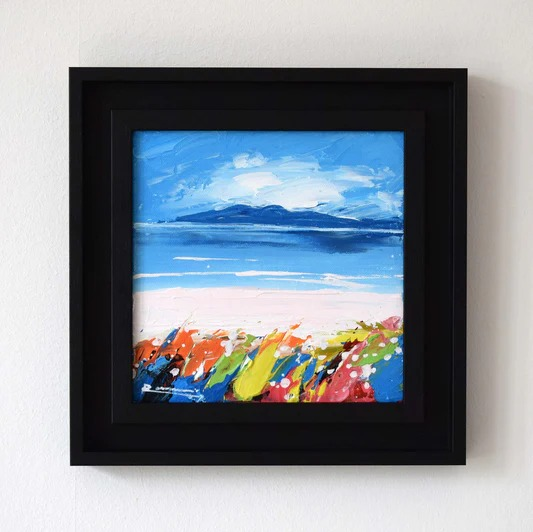painting: (132, 131, 404, 404)
